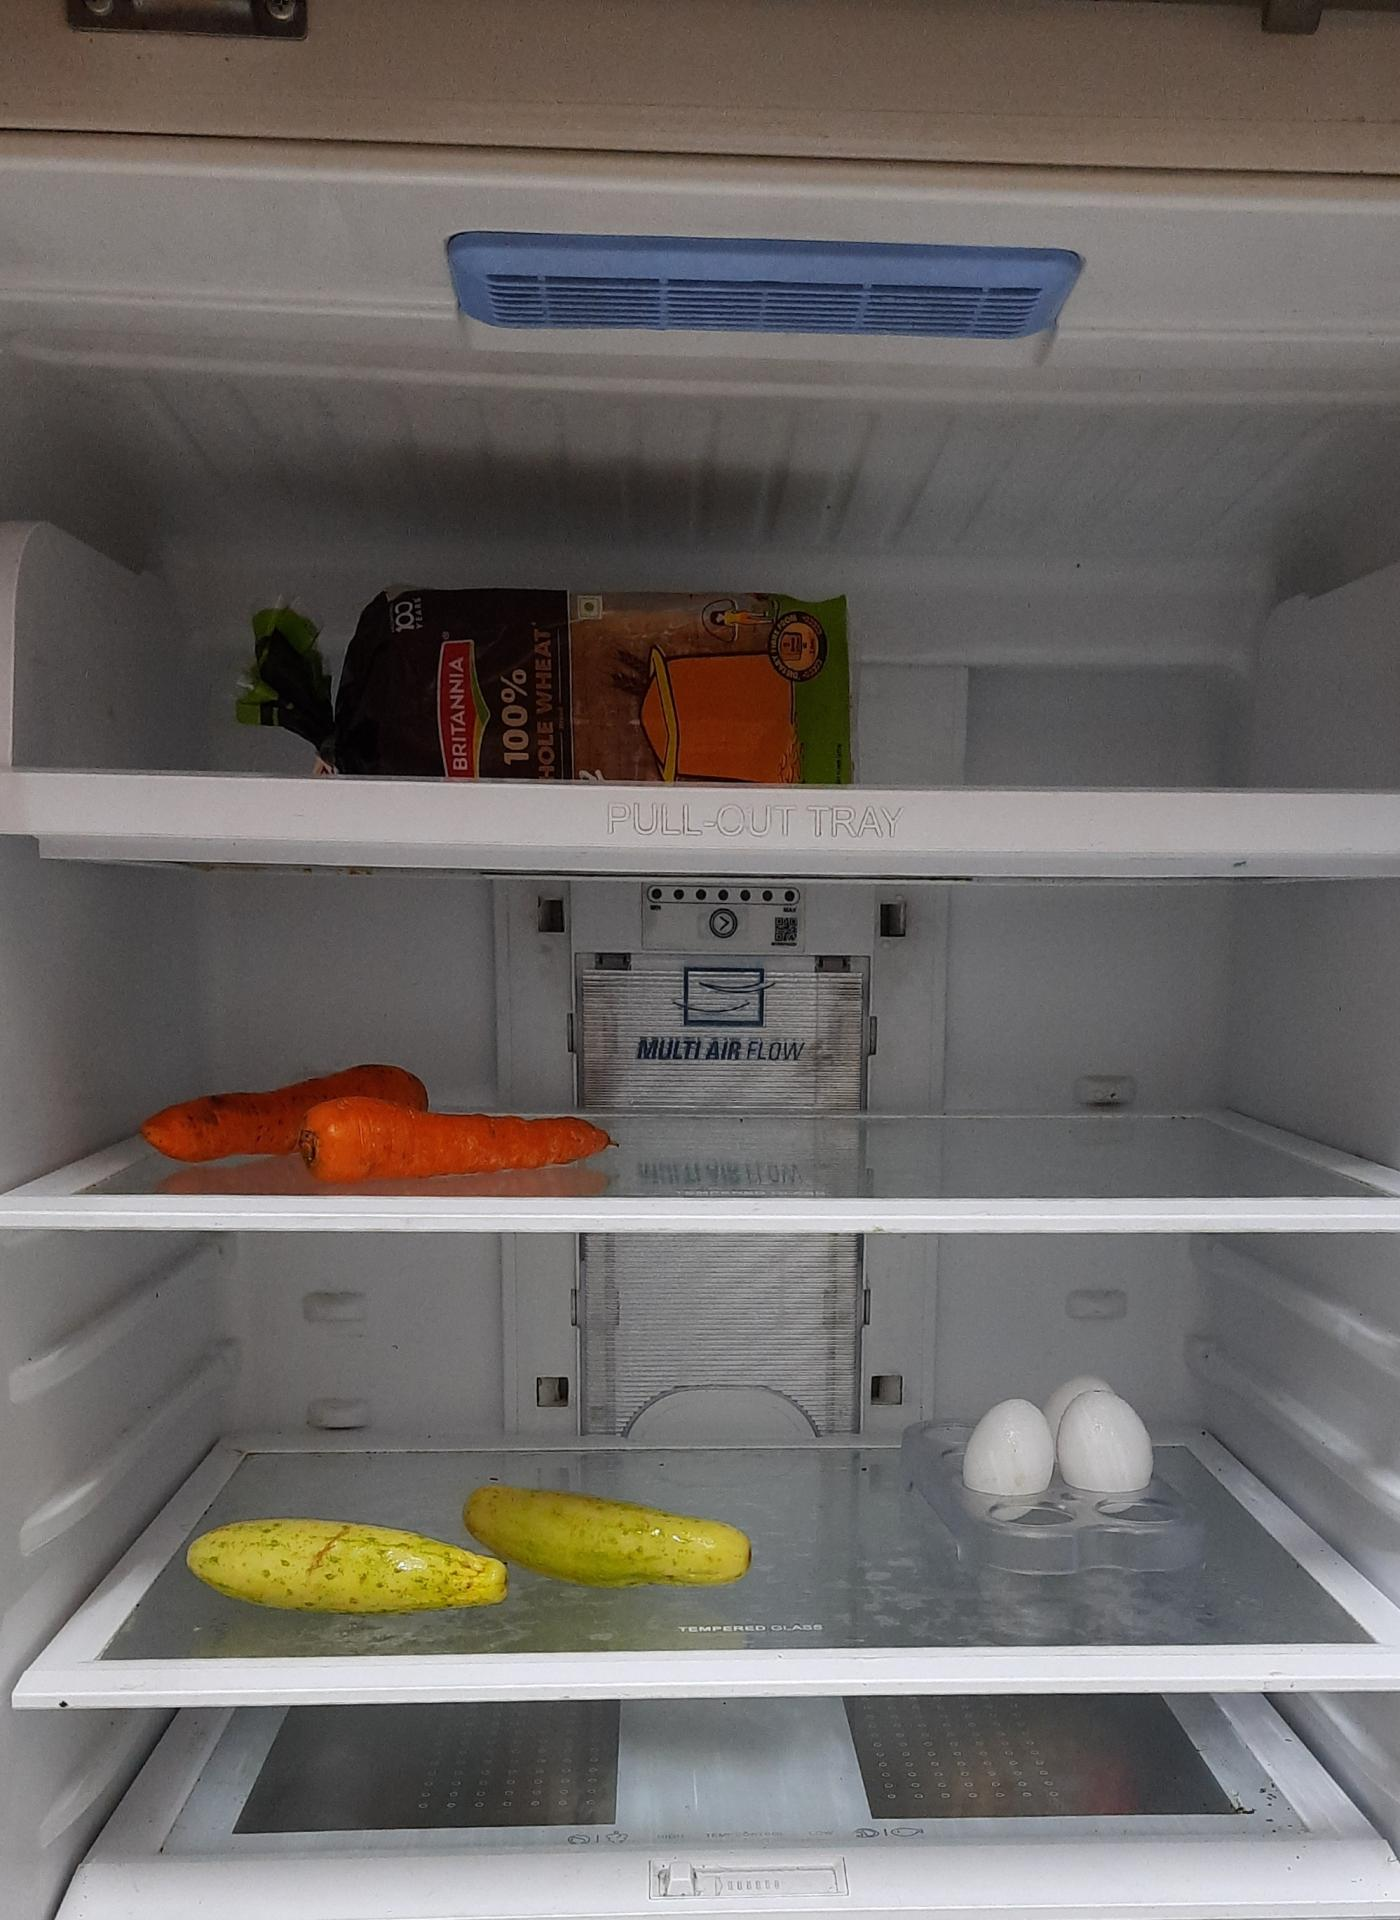bread: (268, 568, 865, 775)
carrots: (149, 1055, 616, 1178)
cucumber: (461, 1479, 765, 1589), (185, 1519, 516, 1619)
egg: (963, 1377, 1157, 1518)
